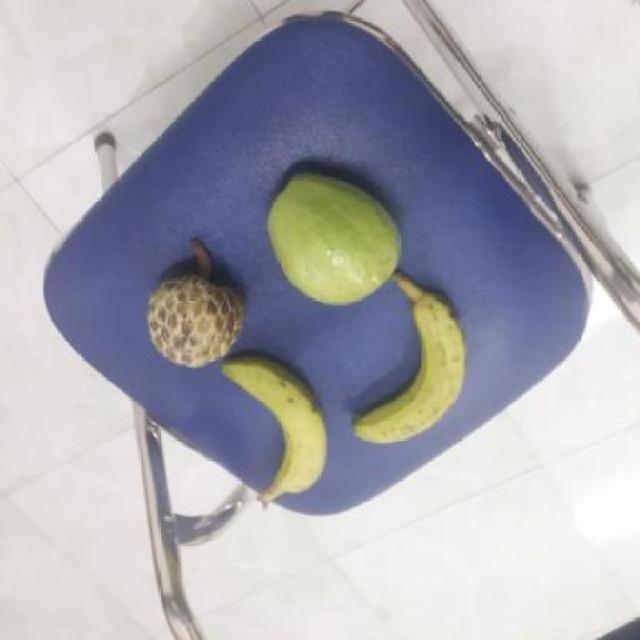banana: (350, 288, 473, 444), (221, 353, 336, 501)
guava: (268, 168, 408, 304)
sugar apple: (144, 254, 248, 369)
